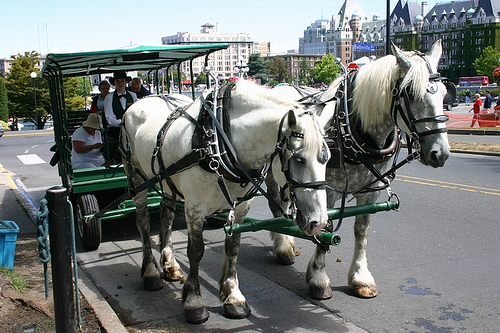horse: (119, 76, 333, 323), (258, 36, 453, 302)
